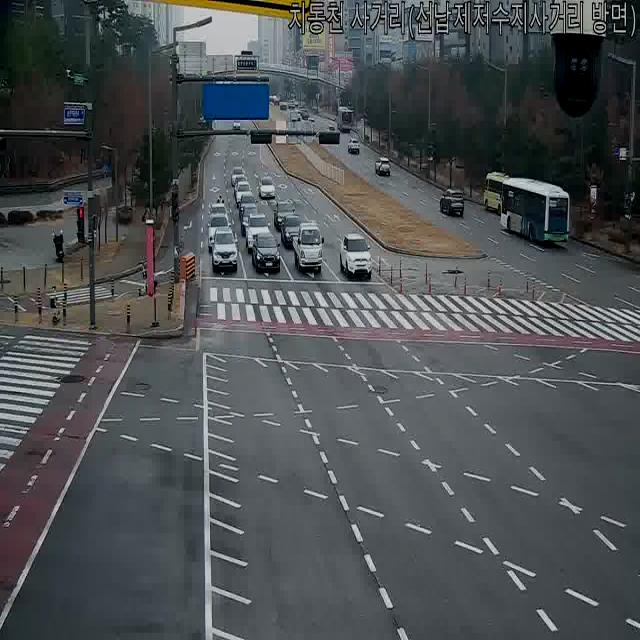Bus: (500, 176, 572, 247), (482, 172, 514, 214), (335, 105, 353, 133)
Car: (339, 233, 372, 280), (482, 172, 514, 214), (210, 228, 238, 274), (251, 233, 281, 274), (244, 213, 271, 252), (207, 214, 232, 251), (281, 214, 306, 249), (439, 189, 465, 217), (274, 200, 296, 231), (239, 207, 263, 235), (208, 201, 230, 231), (239, 193, 258, 220), (235, 181, 252, 207), (258, 177, 276, 200), (230, 166, 246, 188), (375, 156, 391, 176), (348, 138, 360, 155), (289, 110, 299, 123), (268, 93, 278, 104), (287, 98, 297, 108), (298, 108, 308, 118), (280, 100, 288, 112)
Motorcycle: (216, 192, 226, 214)
Truck: (294, 221, 324, 273)
